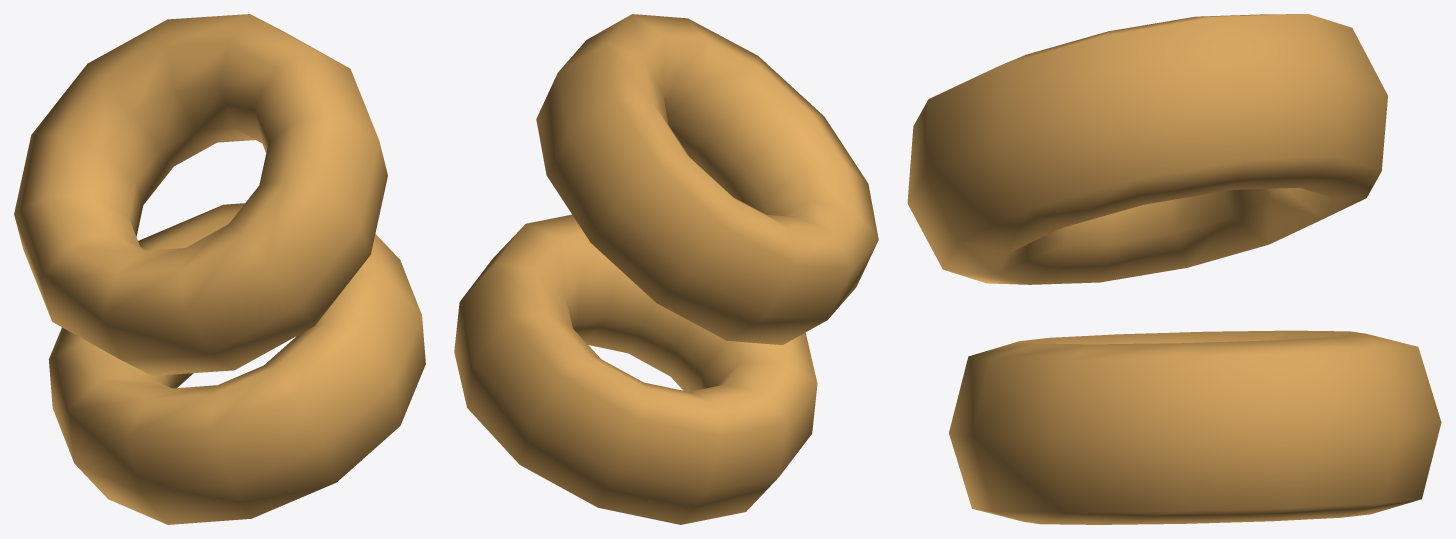
File: Earring_7.fbx
The picture shows the model from 3 angles, left to right: view 1: azimuth 30°, elevation 25°; view 2: azimuth 150°, elevation 25°; view 3: azimuth 270°, elevation 25°; orthographic projection. The views are drawn at different scales.
Parts seen in each view (by area): view 1: Earring_7; view 2: Earring_7; view 3: Earring_7.
Boxes of the visible parts, x1=… form: Earring_7: x1=14, y1=14, x2=425, y2=524; Earring_7: x1=454, y1=14, x2=878, y2=524; Earring_7: x1=907, y1=14, x2=1441, y2=524.
Bounding box in the file's own units: 8.62 × 9.93 × 8.46.
